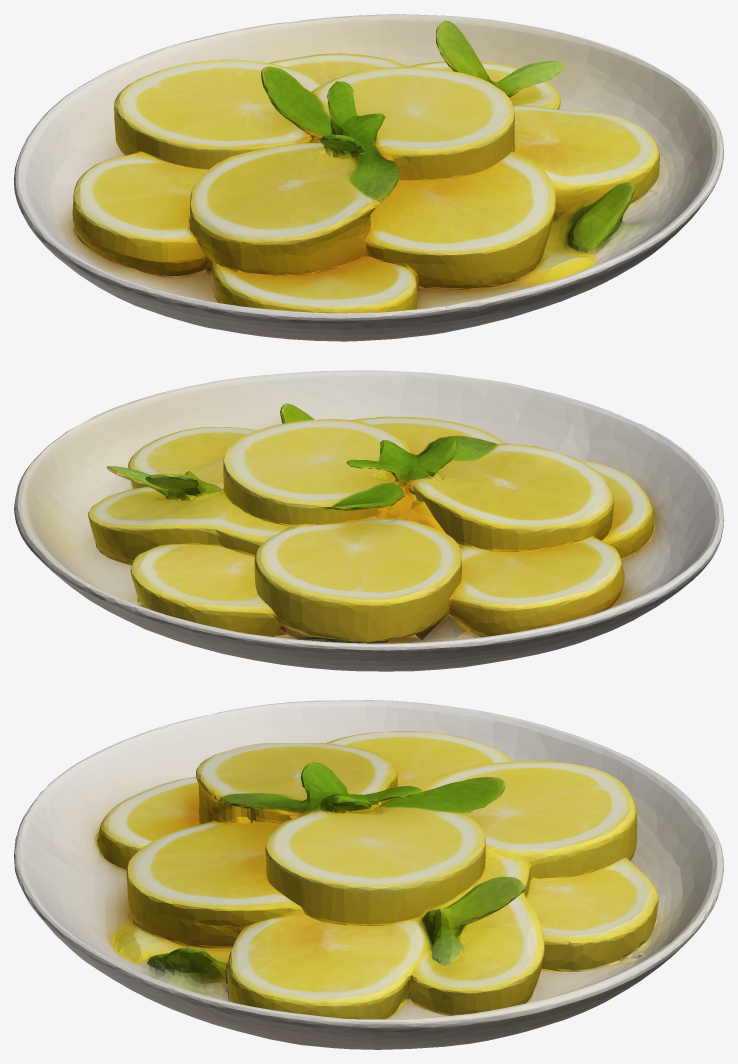
Rendered from chanh.fbx.
The picture shows the model from 3 angles, top to bottom: view 1: azimuth 30°, elevation 25°; view 2: azimuth 150°, elevation 25°; view 3: azimuth 270°, elevation 25°; orthographic projection. The views are drawn at different scales.
Parts seen in each view (by area): view 1: world; view 2: world; view 3: world.
Part boxes in pixels (bbox=[...]): world: bbox=[14, 14, 723, 341]; world: bbox=[14, 370, 723, 671]; world: bbox=[14, 700, 723, 1049].
Bounding box in the file's own units: 0.9998 × 0.2358 × 0.9296.
1 material, 1 textured.
